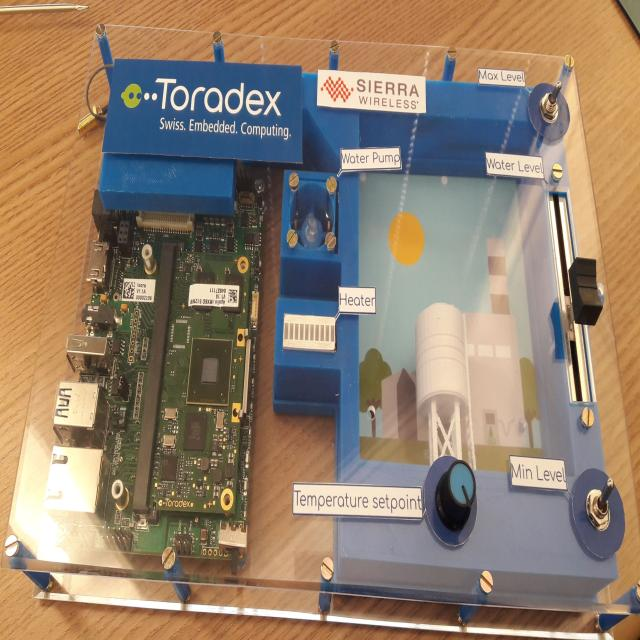som: (137, 247, 256, 518)
